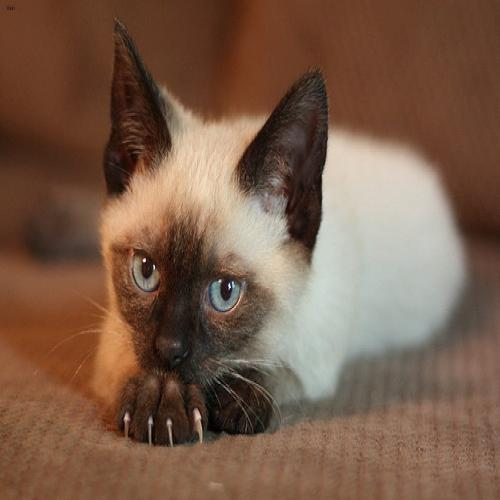siamese: (86, 2, 335, 387)
